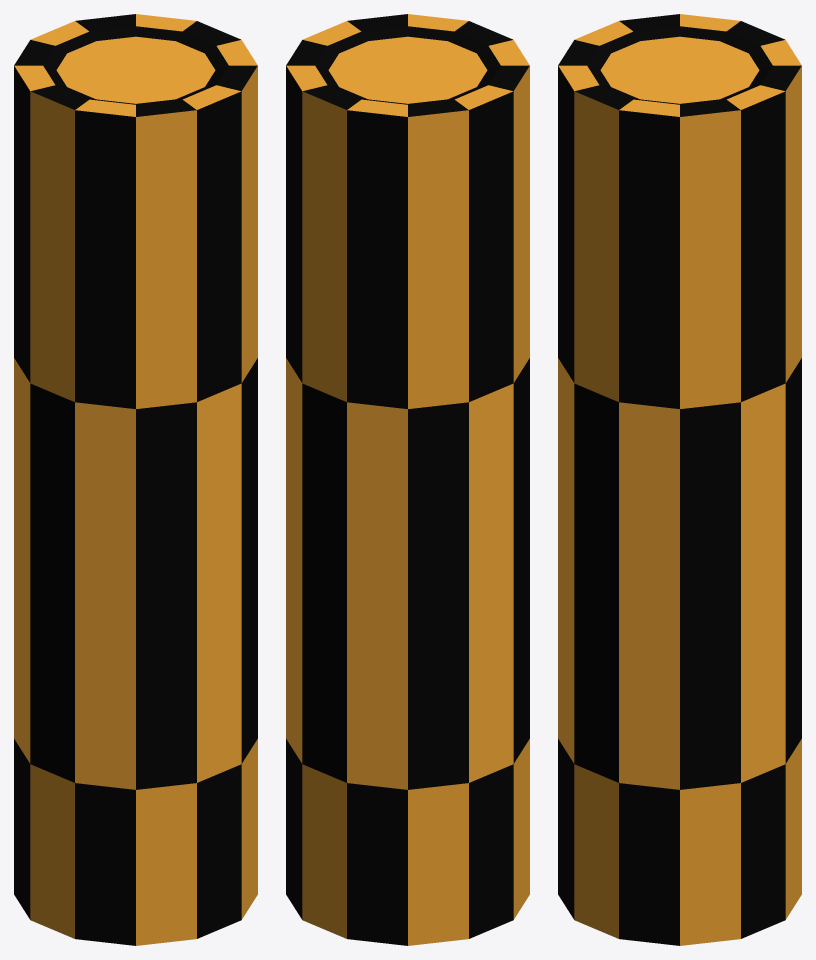
Rendered from Fountain_DummyFountain.fbx.
3 views of the same model, side by side, from view 1: azimuth 30°, elevation 25°; view 2: azimuth 150°, elevation 25°; view 3: azimuth 270°, elevation 25° (orthographic).
Visible parts, largest first — view 1: Fountain_DummyFountain; view 2: Fountain_DummyFountain; view 3: Fountain_DummyFountain.
Part boxes in pixels (box(x1,y1,x2,y2)): Fountain_DummyFountain: box(14, 14, 257, 945); Fountain_DummyFountain: box(286, 14, 529, 945); Fountain_DummyFountain: box(558, 14, 801, 945).
Bounding box in the file's own units: 0.12 × 0.45 × 0.12.
